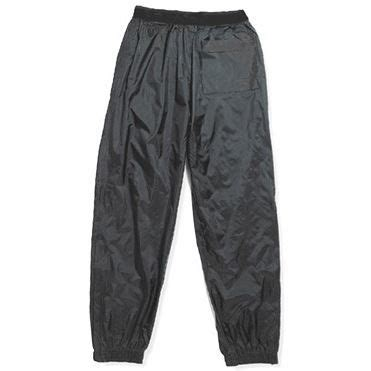nylon: (89, 6, 281, 365)
